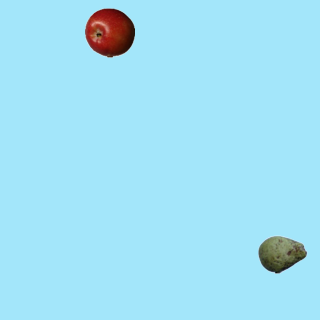Apple Braeburn: (84, 7, 134, 57)
Pear Stone: (257, 229, 307, 279)
